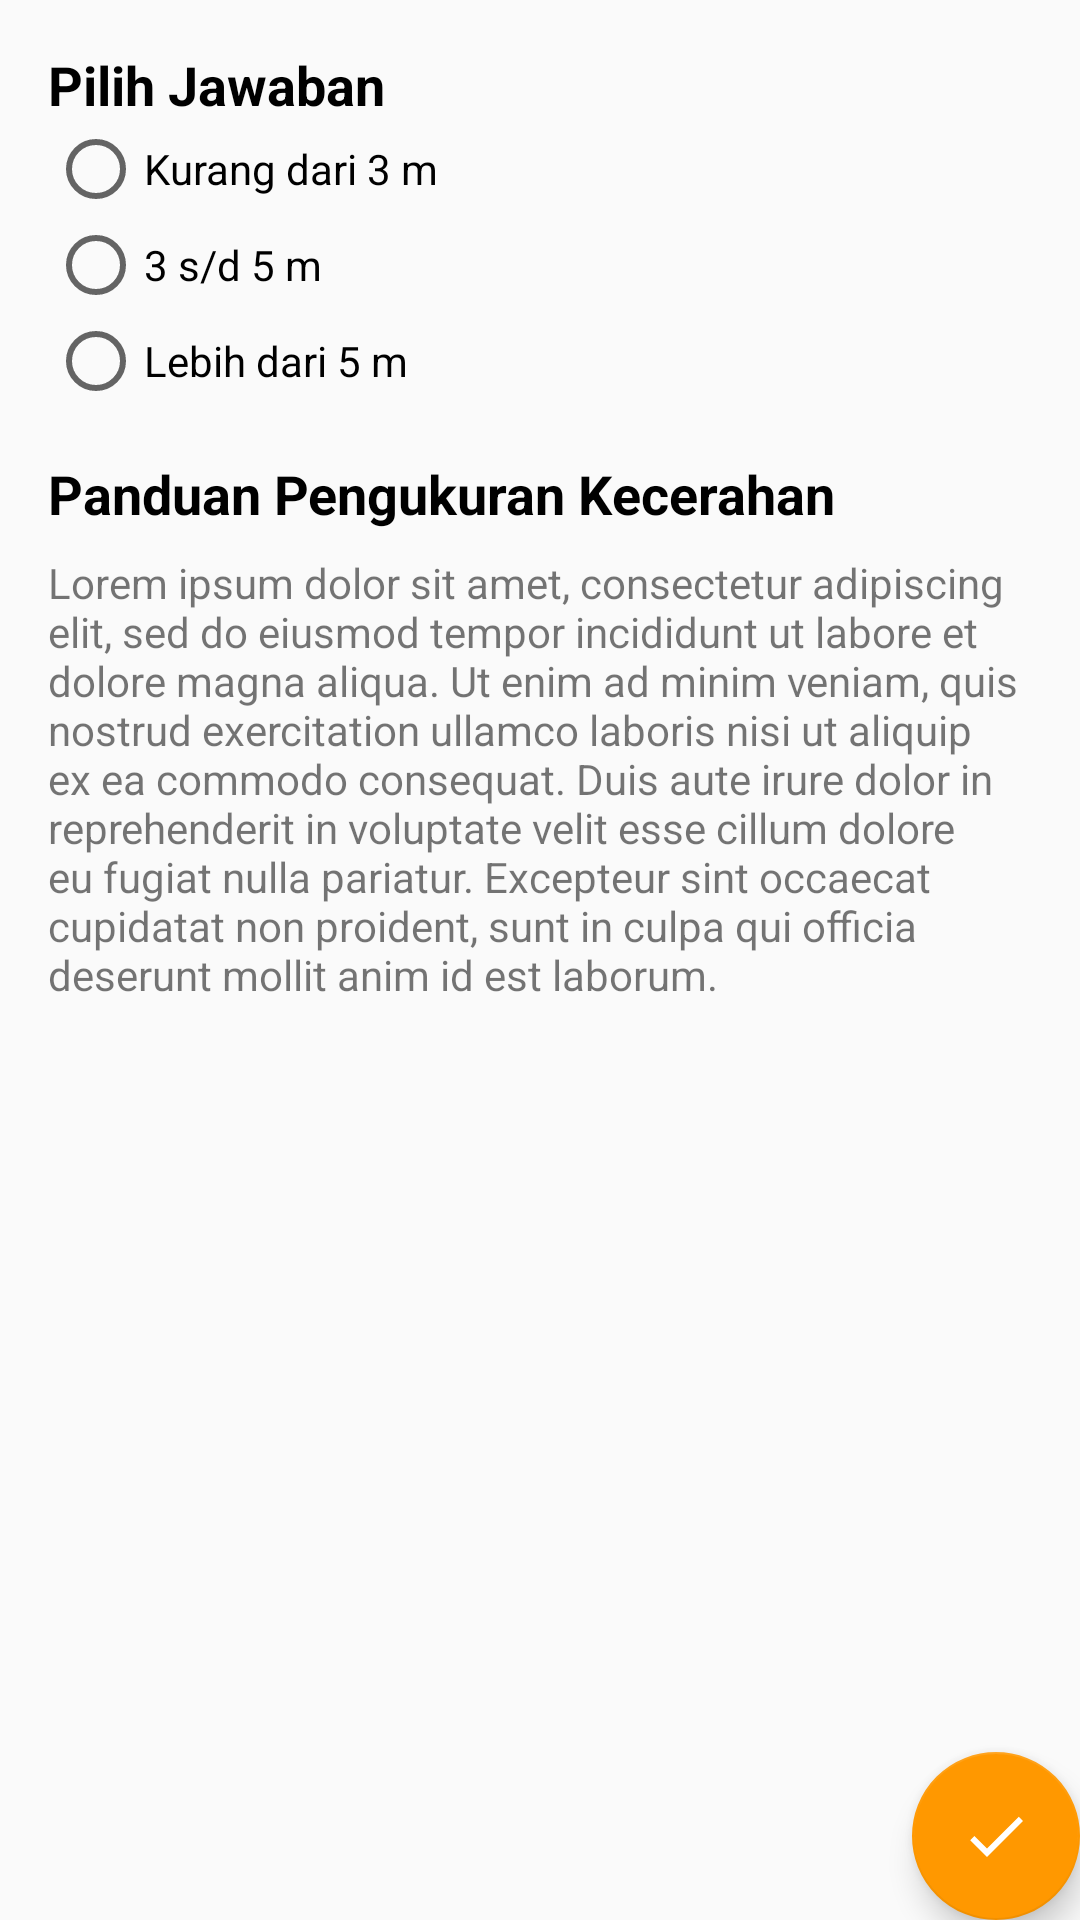

Icon bounding boxes for this 1080px×1920px phone screenshot, format (x1, y1, x2, y2):
done: (912, 1752, 1080, 1920)
